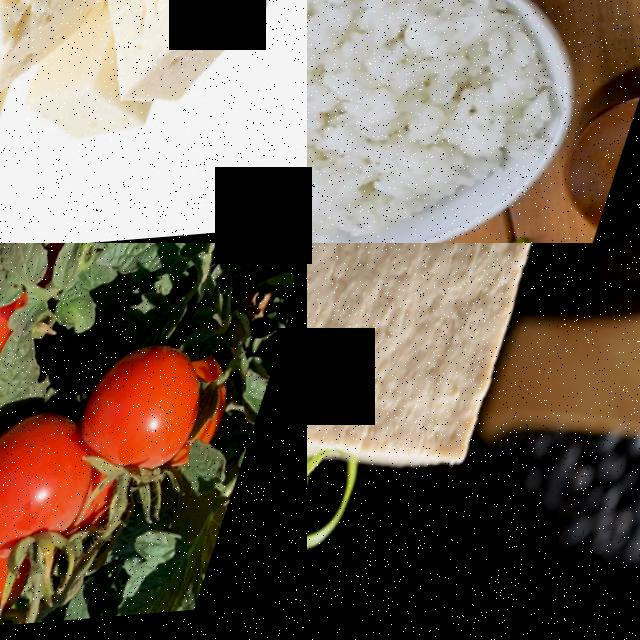tofu: (307, 243, 560, 499), (78, 0, 294, 133), (0, 0, 151, 119)
tomato: (72, 337, 230, 507), (0, 402, 120, 585)
white rice: (307, 0, 607, 243)
